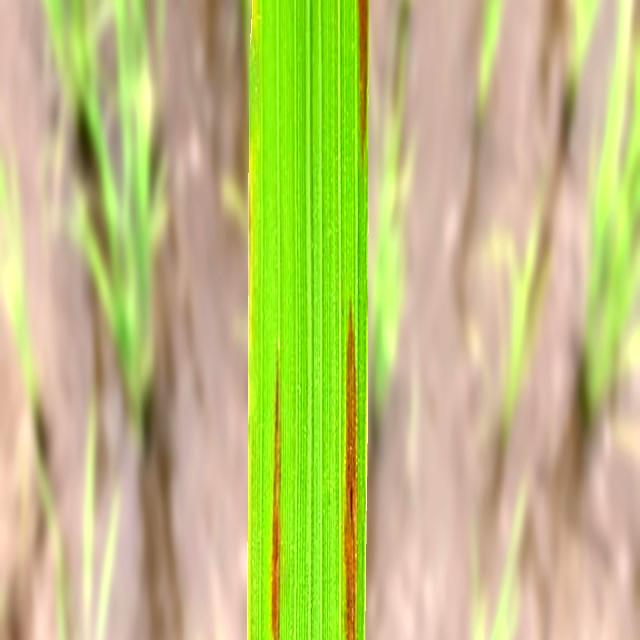NBS: (344, 304, 357, 640), (271, 352, 281, 640), (358, 0, 368, 152)
